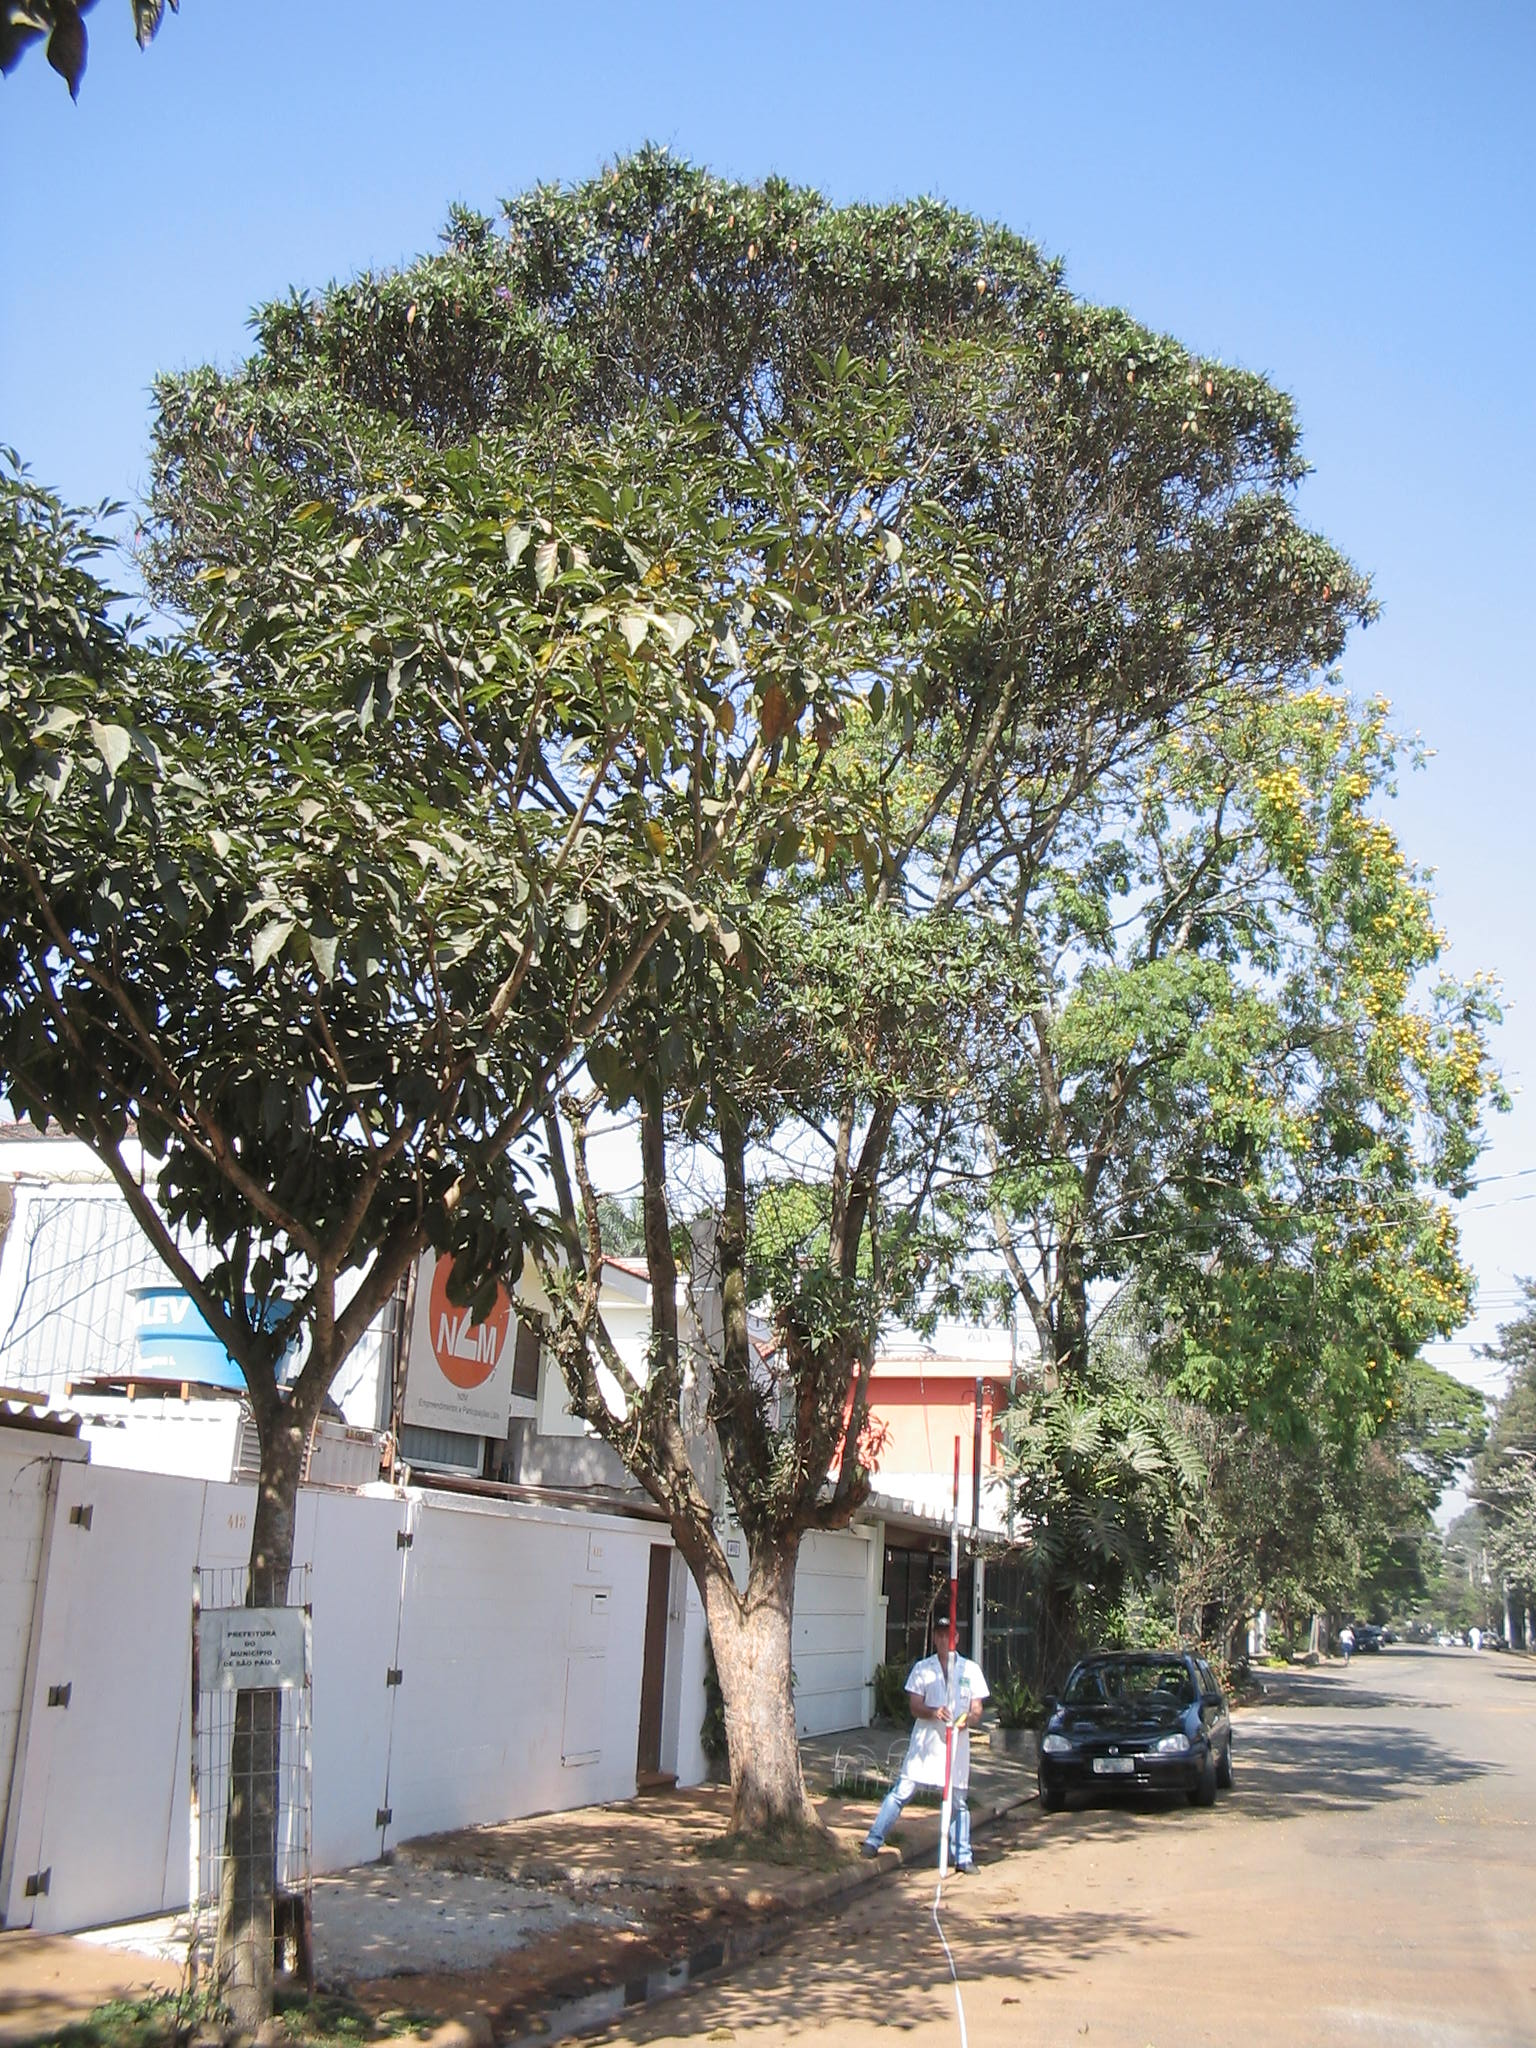crown: (144, 140, 1367, 1237), (11, 432, 963, 1337)
stem: (179, 1437, 323, 2024), (695, 1621, 850, 1854)
stick: (929, 1440, 971, 1874)
tree: (137, 142, 1379, 1854), (6, 432, 975, 2025)
